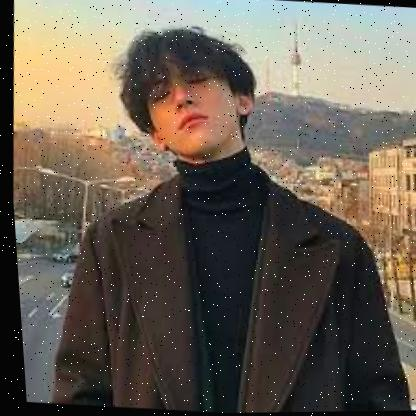person: (102, 20, 265, 163)
